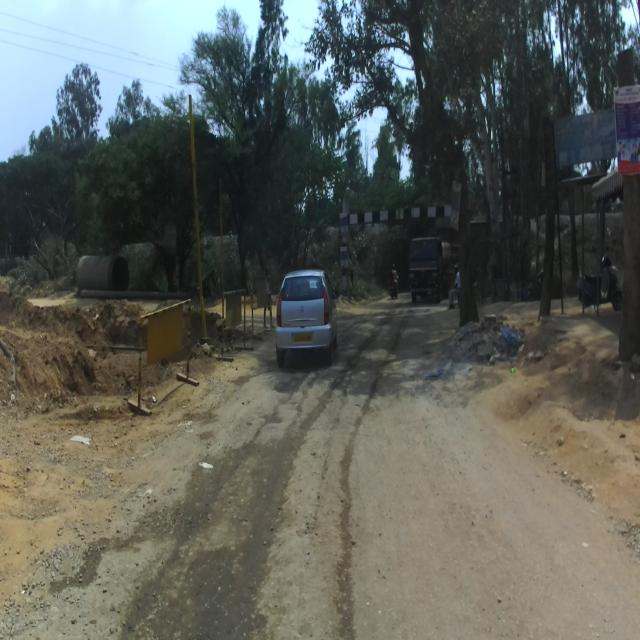barrier ahead at: (126, 295, 203, 423), (271, 263, 338, 364)
